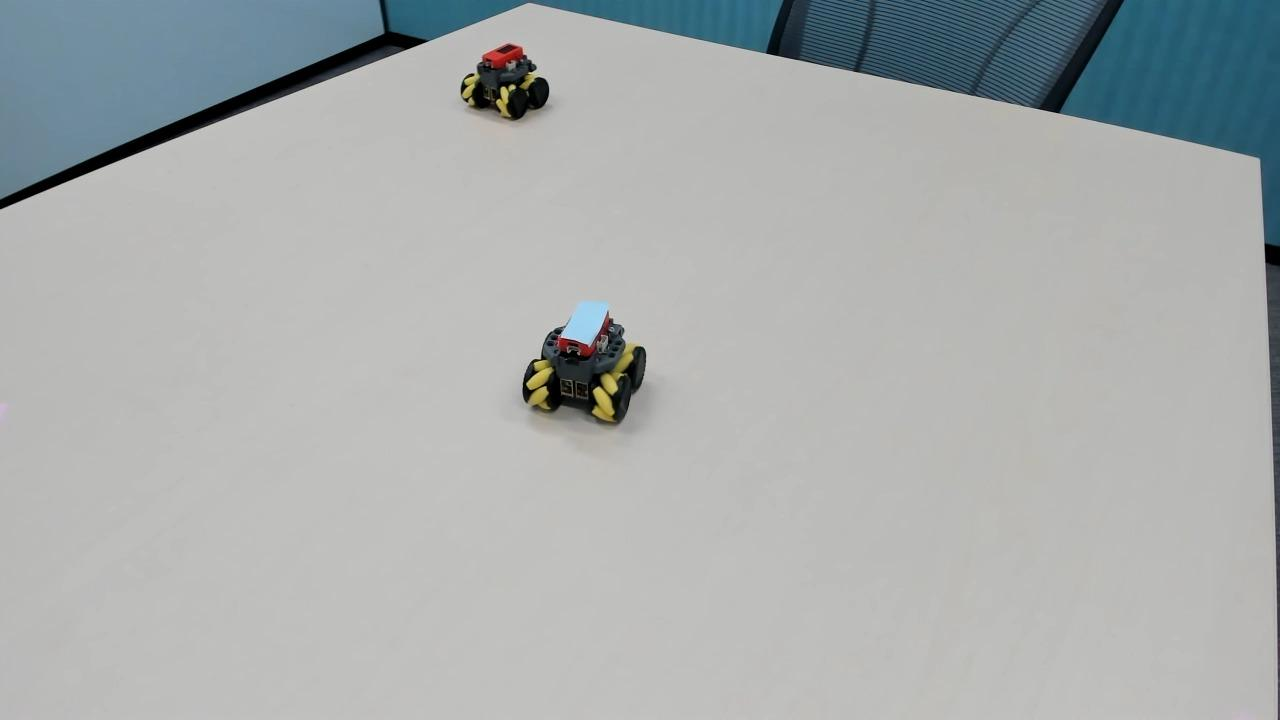B-Robot: (504, 286, 660, 430)
R-Robot: (449, 29, 561, 138)
